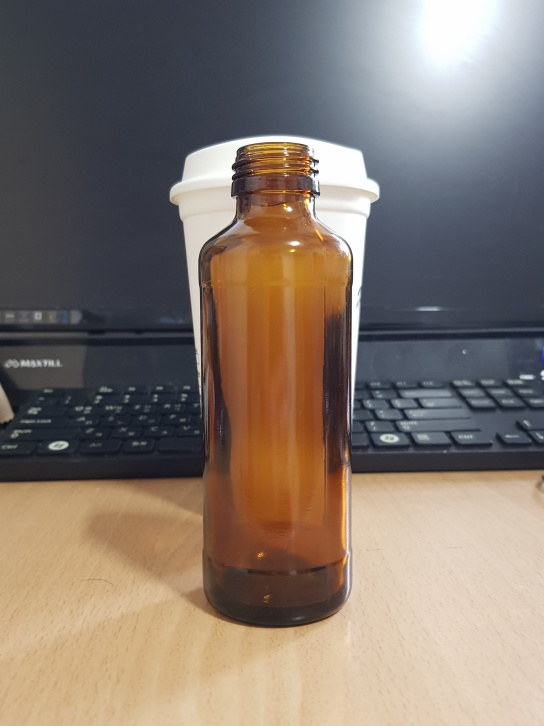Glass: (197, 142, 356, 629)
